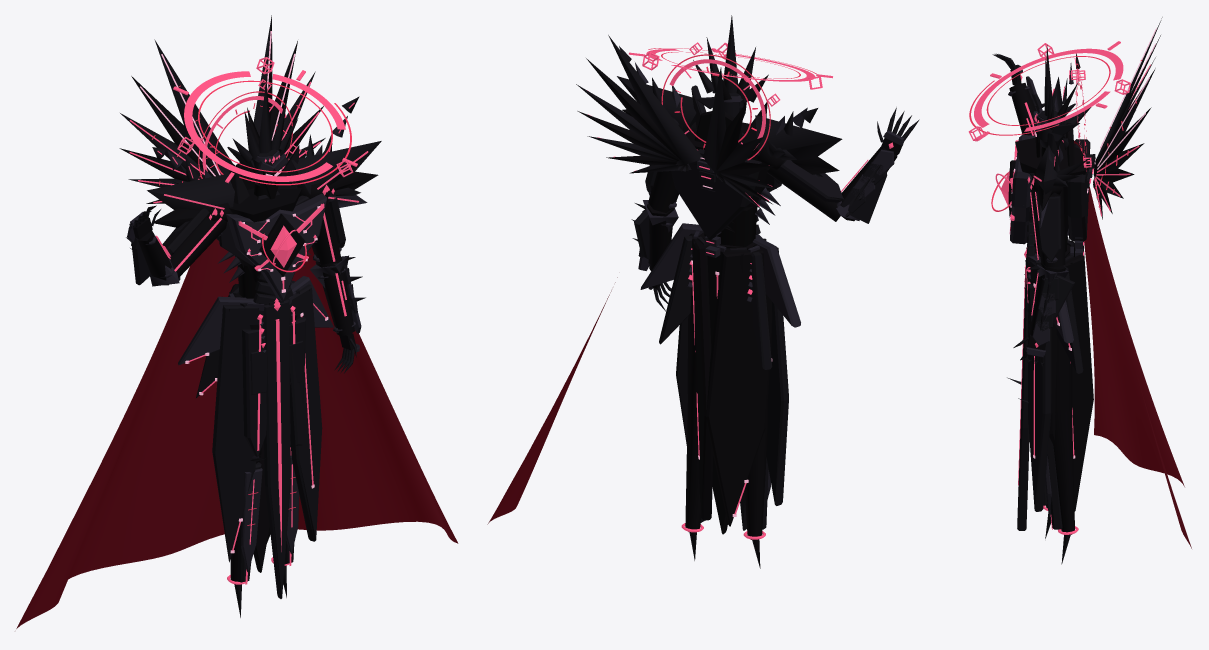
File: worms.glb
3 renders of one model, left to right at view 1: azimuth 30°, elevation 25°; view 2: azimuth 150°, elevation 25°; view 3: azimuth 270°, elevation 25°, orthographic. The views are drawn at different scales.
Parts seen in each view (by area): view 1: cape, skirt, chest, haloSpin, thighR, elbowL, kneeR, upperR, head, elbowR, crown, upperL (+4 smaller); view 2: skirt, chest, elbowR, upperR, cape, head, elbowL, kneeR, crown, kneeL, haloSpin, spine (+3 smaller); view 3: chest, cape, skirt, kneeL, haloSpin, elbowL, upperL, thighL, elbowR, head, crown, spine (+1 smaller).
Part boxes in pixels (x1,y1,x2,y2): cape: (16, 239, 458, 628); skirt: (178, 276, 333, 598); chest: (119, 15, 381, 301); haloSpin: (173, 57, 357, 185); thighR: (242, 318, 267, 456); elbowL: (310, 255, 365, 336); kneeR: (230, 455, 265, 584); upperR: (162, 208, 226, 280); head: (198, 91, 292, 199); elbowR: (126, 226, 179, 286); crown: (232, 79, 298, 163); upperL: (312, 197, 345, 264); skirt: (640, 223, 800, 534); chest: (576, 35, 842, 240); elbowR: (835, 147, 897, 223); upperR: (767, 160, 843, 221); cape: (487, 277, 617, 524); head: (661, 54, 770, 160); elbowL: (631, 200, 678, 270); kneeR: (744, 404, 770, 539); crown: (693, 15, 768, 102); kneeL: (685, 394, 704, 532); haloSpin: (629, 42, 832, 89); spine: (704, 206, 760, 257); chest: (991, 17, 1162, 244); cape: (1074, 140, 1191, 548); skirt: (1017, 237, 1093, 530); kneeL: (1018, 398, 1074, 535); haloSpin: (968, 41, 1130, 141); elbowL: (1027, 263, 1074, 346); upperL: (1030, 188, 1065, 267); thighL: (1026, 270, 1072, 412); elbowR: (1008, 76, 1044, 136); head: (1033, 63, 1086, 171); crown: (1034, 45, 1078, 130); spine: (1026, 222, 1084, 256).
Bounding box in the file's own units: 15.74 × 18.84 × 7.5.
